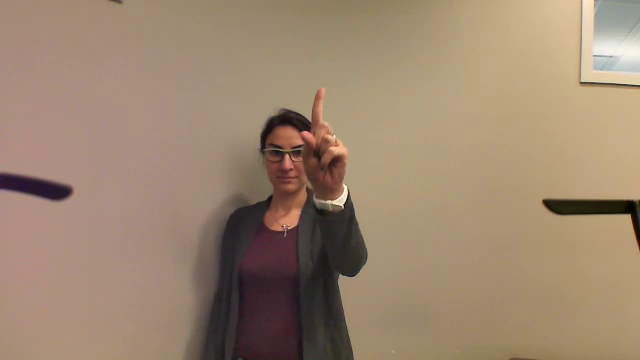up: (292, 81, 357, 205)
